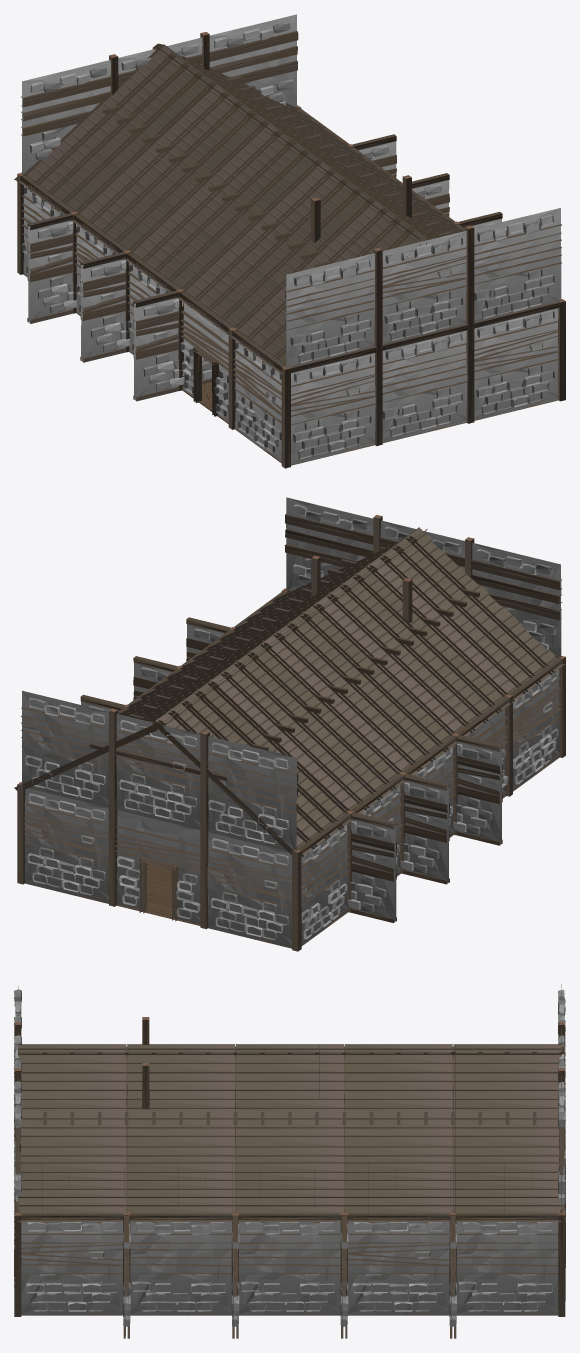
File: Guild.fbx
3 views of the same model, one above another, from view 1: azimuth 30°, elevation 25°; view 2: azimuth 150°, elevation 25°; view 3: azimuth 270°, elevation 25° (orthographic). The views are drawn at different scales.
Parts seen in each view (by area): view 1: SM_Wall_3A_20, SM_Roof_2A_528, SM_Beam_2, SM_Floor_2; view 2: SM_Wall_3A_20, SM_Roof_2A_528, SM_Beam_2, SM_Floor_2; view 3: SM_Roof_2A_528, SM_Wall_3A_20, SM_Beam_2, SM_Floor_2.
Part boxes in pixels (x1,y1,x2,y2): SM_Wall_3A_20: (21, 14, 562, 465); SM_Roof_2A_528: (14, 43, 494, 374); SM_Beam_2: (17, 32, 565, 468); SM_Floor_2: (23, 274, 557, 465); SM_Wall_3A_20: (20, 497, 562, 948); SM_Roof_2A_528: (14, 527, 565, 859); SM_Beam_2: (17, 515, 565, 951); SM_Floor_2: (25, 757, 559, 948); SM_Roof_2A_528: (18, 1044, 564, 1223); SM_Wall_3A_20: (14, 984, 565, 1338); SM_Beam_2: (14, 1017, 565, 1316); SM_Floor_2: (21, 1314, 557, 1315).
Bounding box in the file's own units: 1603 × 835 × 2030.
